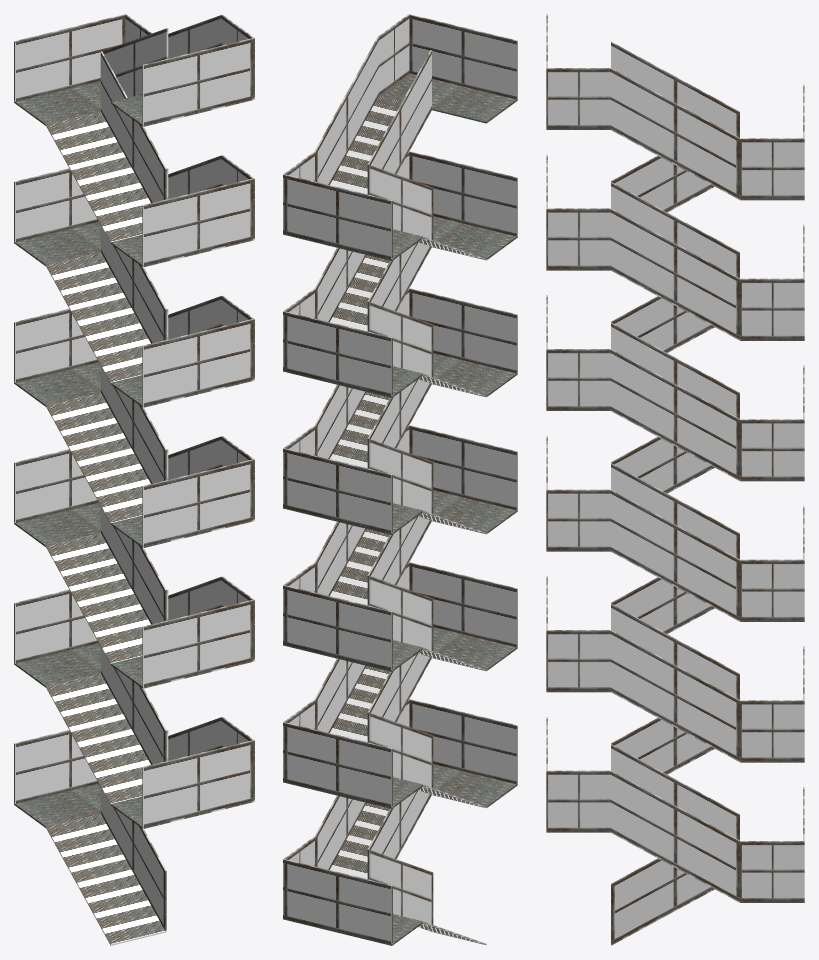
Rendered from escalera_emerg.gltf.
3 renders of one model, left to right at view 1: azimuth 30°, elevation 25°; view 2: azimuth 150°, elevation 25°; view 3: azimuth 270°, elevation 25°, orthographic. The views are drawn at different scales.
Visible parts, largest first — view 1: escalera; view 2: escalera; view 3: escalera.
Part boxes in pixels (bbox=[...]): escalera: bbox=[14, 14, 254, 945]; escalera: bbox=[283, 14, 517, 945]; escalera: bbox=[546, 14, 804, 945].
Bounding box in the file's own units: 2 × 15.45 × 4.
1 material, 1 textured.
